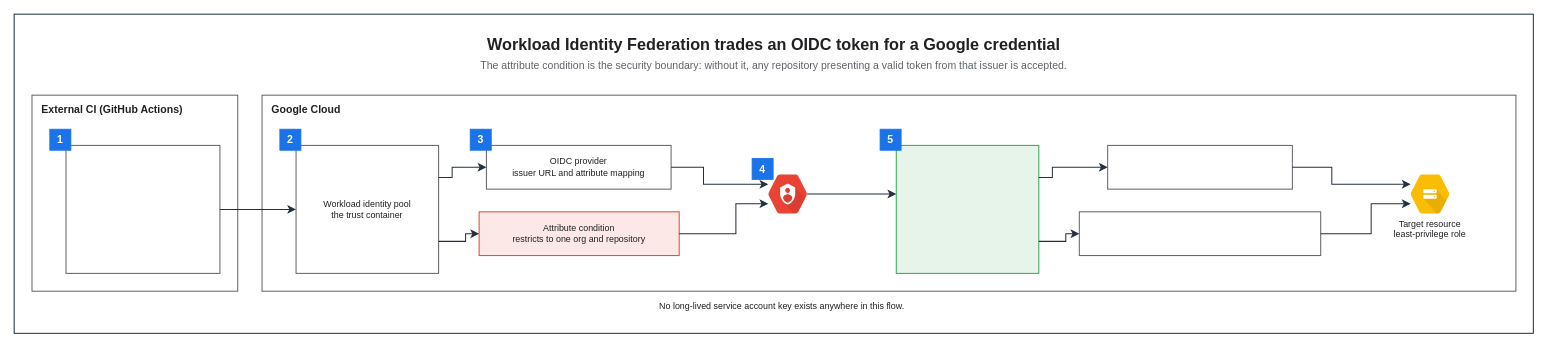
This 1548x348 diagram has some shape labels left out. Each missing label, with the box of its shape:
Direct resource access IAM binding on the principal set: (1107, 145, 1293, 189)
Federated token short-lived: (895, 145, 1039, 274)
OIDC token issued to the workflow run: (65, 145, 220, 274)
Security Token Service validates and exchanges: (768, 174, 807, 213)
Service account impersonation when a service account identity is required: (1078, 211, 1321, 256)
